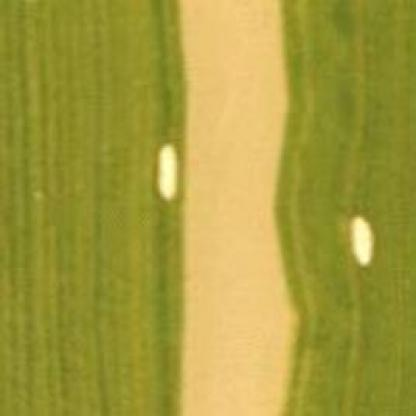whorl-maggot: (347, 210, 381, 270), (154, 141, 184, 203)
